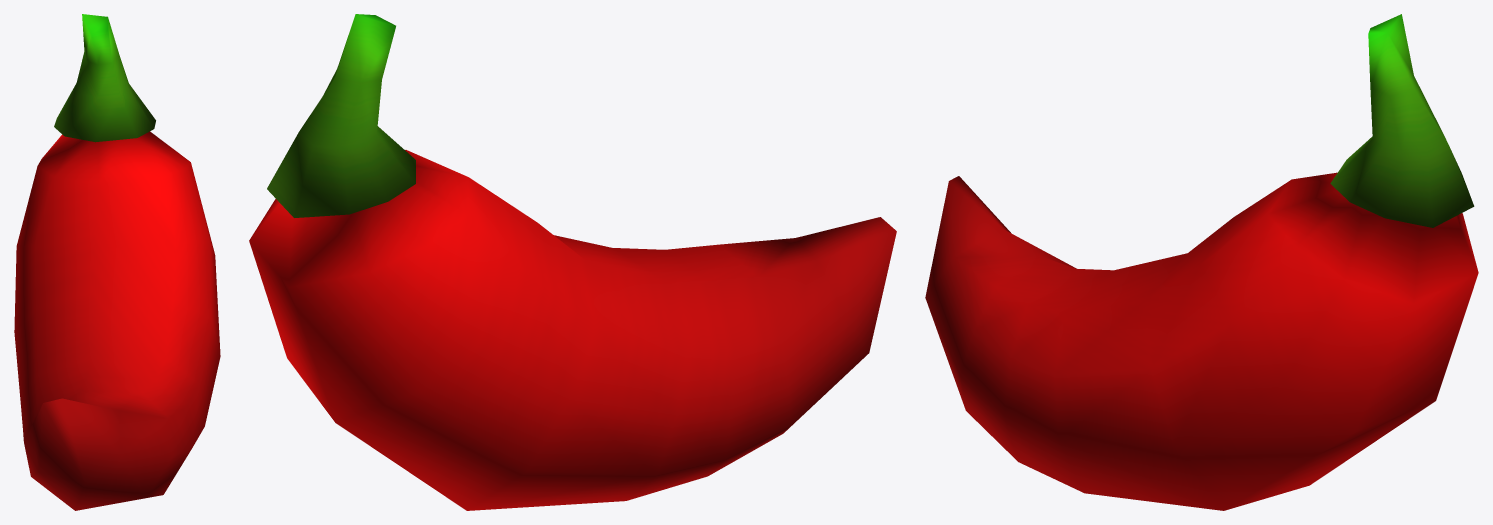
The model's file is pepper.glb.
3 views of the same model, side by side, from view 1: azimuth 30°, elevation 25°; view 2: azimuth 150°, elevation 25°; view 3: azimuth 270°, elevation 25° (orthographic). The views are drawn at different scales.
Parts seen in each view (by area): view 1: SM_Pepper2; view 2: SM_Pepper2; view 3: SM_Pepper2.
Boxes of the visible parts, x1,y1,x2,y2 form: SM_Pepper2: (14,14,220,510); SM_Pepper2: (249,14,896,510); SM_Pepper2: (925,14,1478,510).
Size of the model in its own units: 0.2457 by 0.3088 by 0.2988.
Materials: 1 (1 with a texture image).
